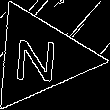N_N: (15, 30, 64, 84)
